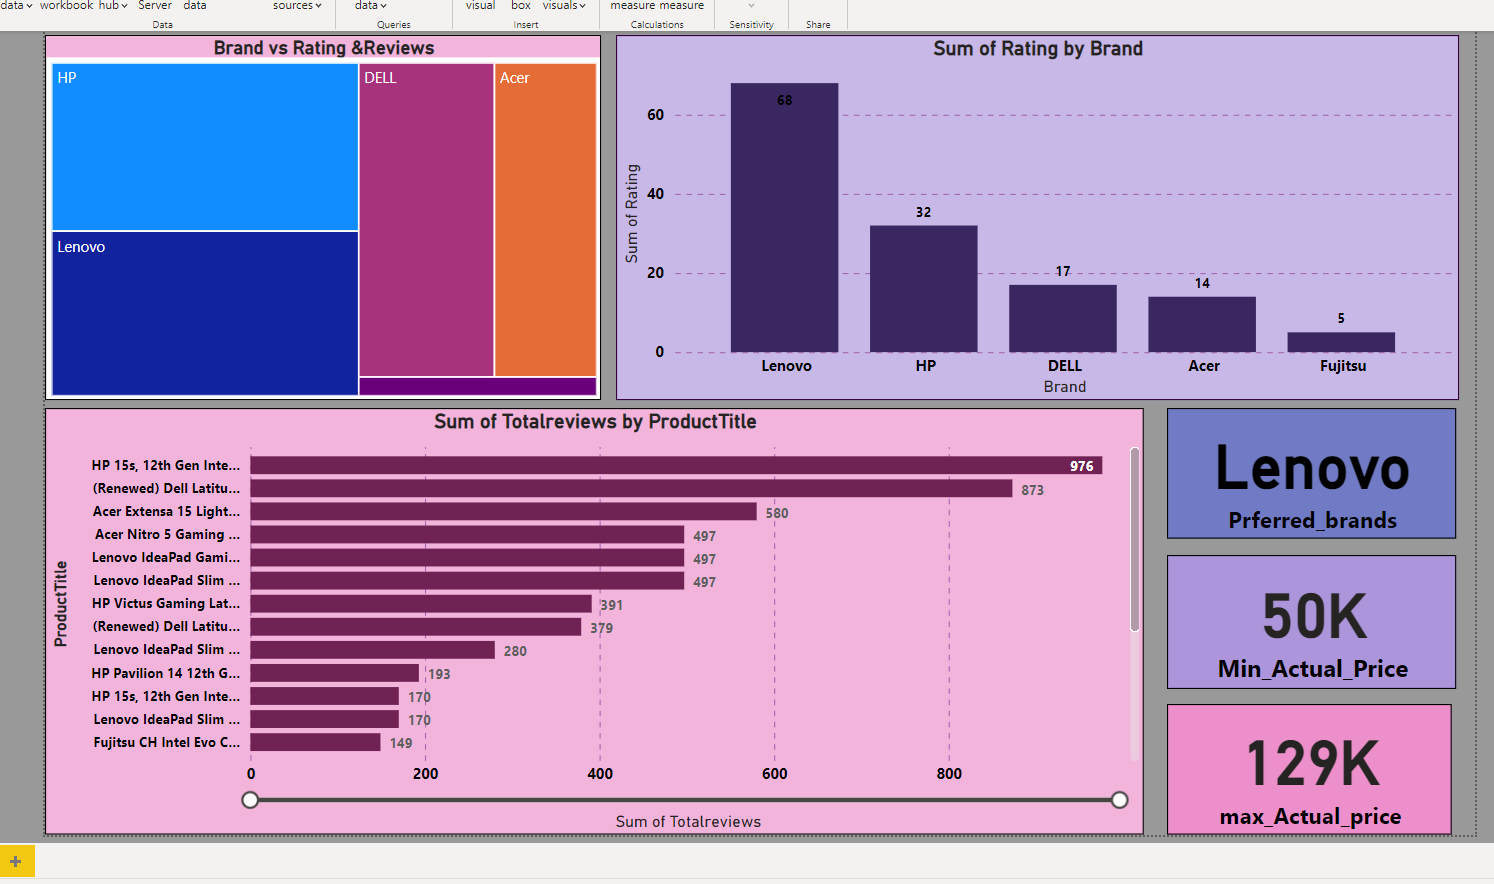

This screenshot's page, from the dashboard's own definition file:
{"tool":"powerbi","page":{"name":"Amazon","canvas":[1280,720],"ordinal":0},"visuals":[{"type":"treemap","title":"Brand vs Rating &Reviews","fields":{"Group":["Amazon.Brand"],"Values":["Sum(Amazon.Totalreviews)"]},"box":[0,3.9,498,326.8],"z":0},{"type":"columnChart","fields":{"Category":["Amazon.Brand"],"Y":["Sum(Amazon.Rating)"]},"box":[511.6,3.9,754.8,326.8],"z":1000},{"type":"card","fields":{"Values":["Amazon.max_Actual_price"]},"box":[1004.8,605.4,255.2,114.6],"z":2000},{"type":"card","fields":{"Values":["Amazon.Min_Actual_Price"]},"box":[1001.2,478.2,258.8,119.1],"z":3000},{"type":"barChart","fields":{"Category":["Amazon.ProductTitle"],"Y":["Sum(Amazon.Totalreviews)"]},"box":[0,337.5,984.3,382.2],"z":4000},{"type":"card","fields":{"Values":["Amazon.Prferred_brands"]},"box":[1001.2,337.6,258.8,122.7],"z":5000}]}

Visuals, with their boxes in screenshot pixels (x1, y1, x2, y2):
"Brand vs Rating &Reviews" treemap: 43, 32, 596, 394
columnChart - Amazon.Brand x Sum(Amazon.Rating): 611, 32, 1449, 394
card - Amazon.max_Actual_price: 1158, 699, 1442, 827
card - Amazon.Min_Actual_Price: 1154, 558, 1442, 690
barChart - Amazon.ProductTitle x Sum(Amazon.Totalreviews): 43, 402, 1136, 826
card - Amazon.Prferred_brands: 1154, 402, 1442, 538
